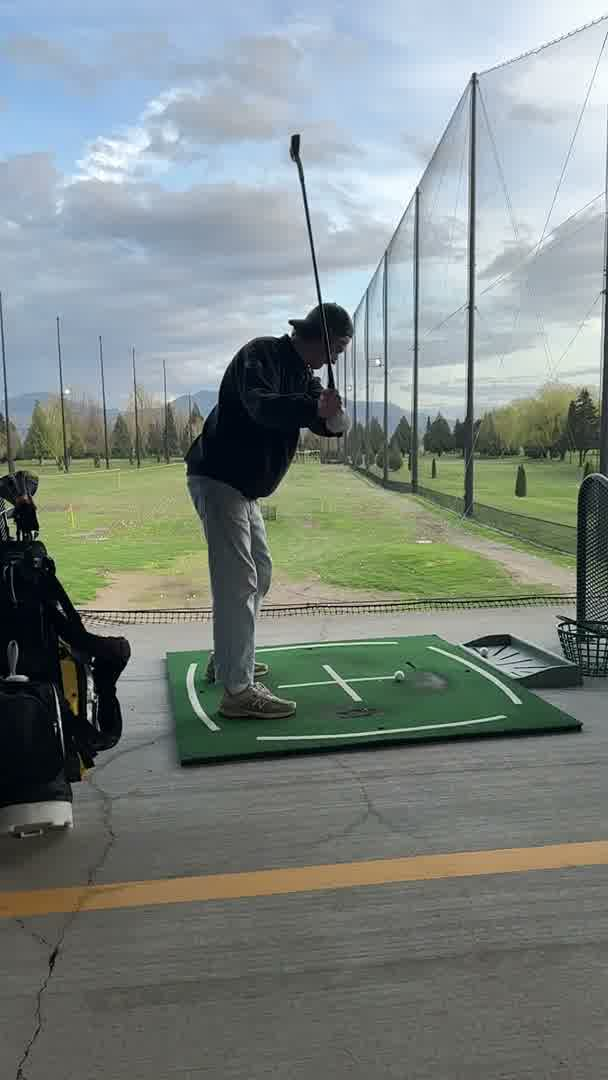Golf Ball: (390, 671, 411, 688)
